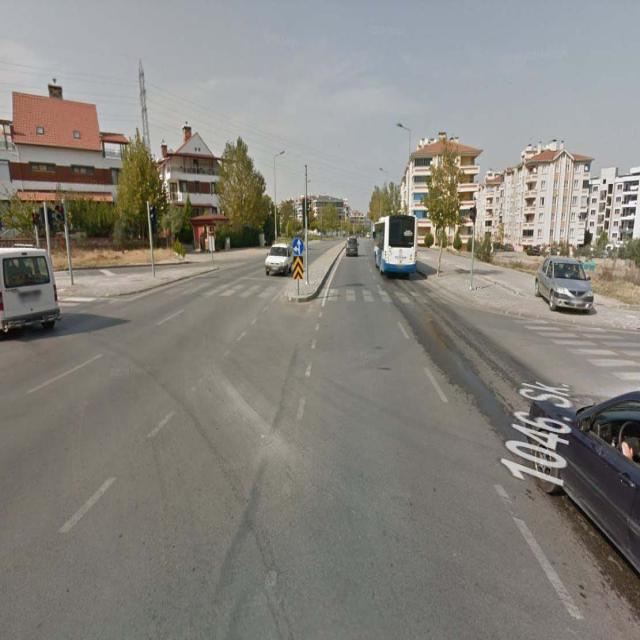ilerisol: (293, 237, 303, 257)
